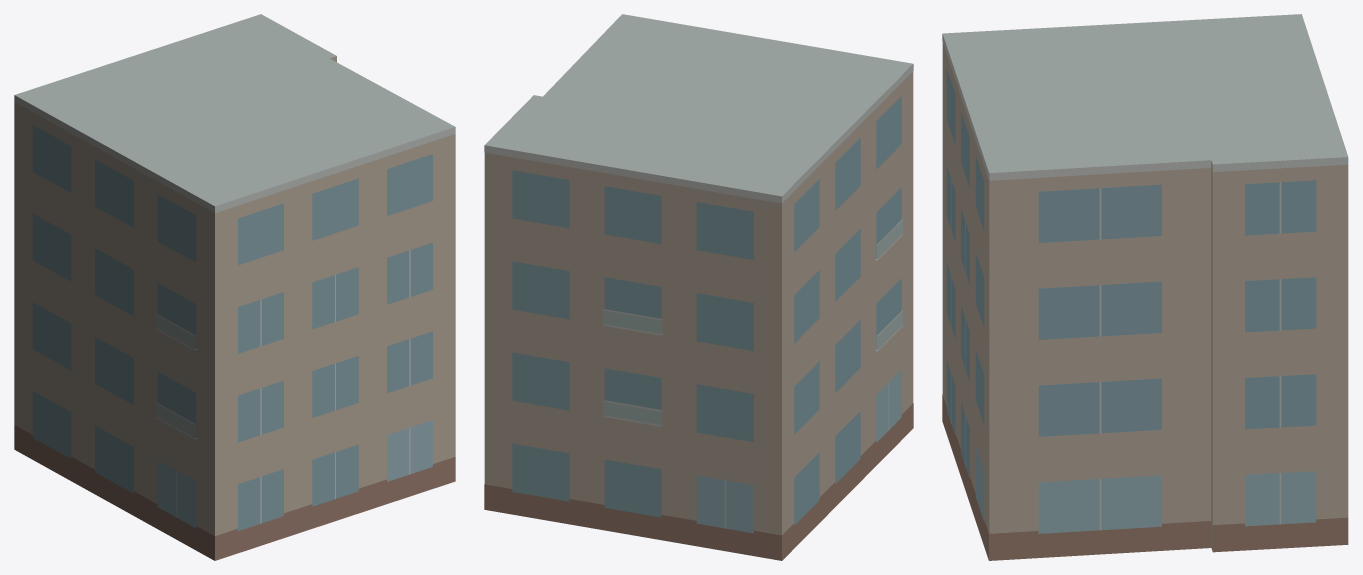
The model's file is survey-upis-32531904.glb.
3 views of the same model, side by side, from view 1: azimuth 30°, elevation 25°; view 2: azimuth 150°, elevation 25°; view 3: azimuth 270°, elevation 25° (orthographic). The views are drawn at different scales.
Parts seen in each view (by area): view 1: survey-upis-32531904.tmp; view 2: survey-upis-32531904.tmp; view 3: survey-upis-32531904.tmp.
Part boxes in pixels (x1,y1,x2,y2): survey-upis-32531904.tmp: (14, 14, 455, 560); survey-upis-32531904.tmp: (484, 14, 913, 560); survey-upis-32531904.tmp: (942, 14, 1348, 560).
Bounding box in the file's own units: 11.02 × 12.5 × 11.87.
